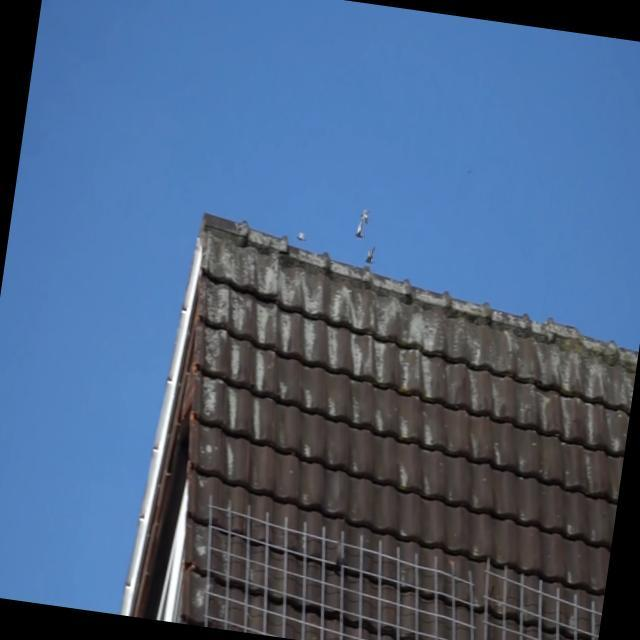bird: (362, 243, 378, 268), (353, 219, 369, 241), (358, 206, 372, 228), (294, 228, 309, 243)
